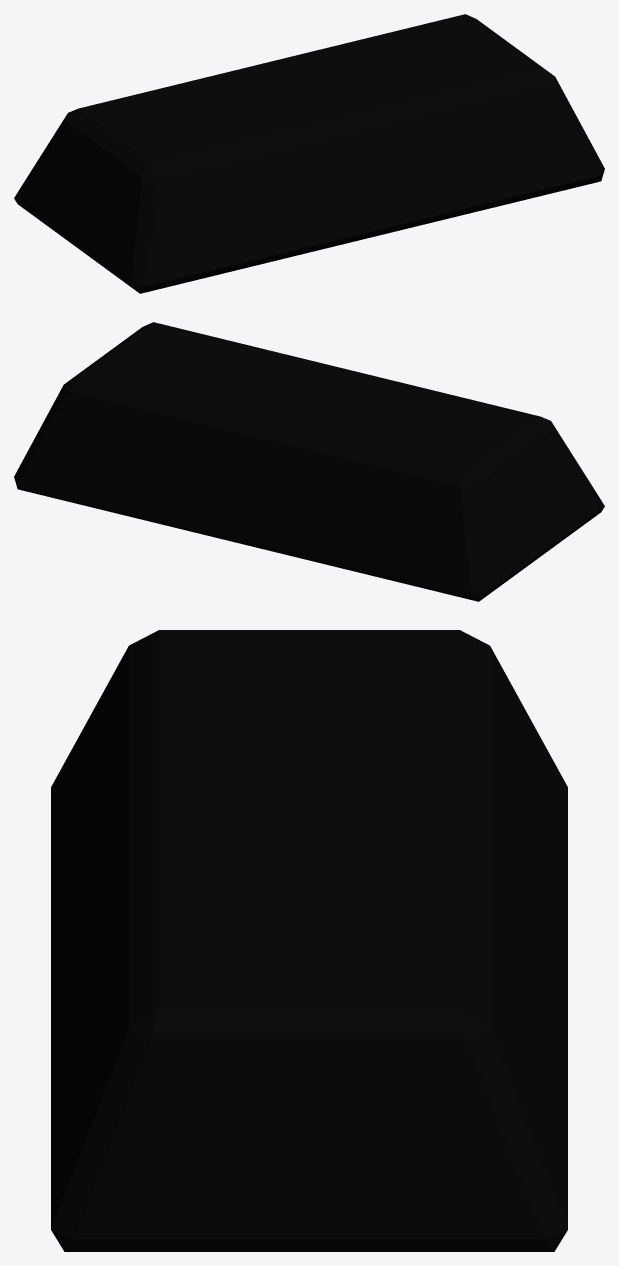
File: Bar Copper 01.fbx
3 views of the same model, one above another, from view 1: azimuth 30°, elevation 25°; view 2: azimuth 150°, elevation 25°; view 3: azimuth 270°, elevation 25° (orthographic). The views are drawn at different scales.
Visible parts, largest first — view 1: Bar Copper 01; view 2: Bar Copper 01; view 3: Bar Copper 01.
Boxes of the visible parts, left/top/right/bottom form: Bar Copper 01: left=14, top=14, right=604, bottom=293; Bar Copper 01: left=14, top=322, right=604, bottom=601; Bar Copper 01: left=51, top=630, right=567, bottom=1251.
Size of the model in its own units: 50.31 by 10.54 by 23.78.
